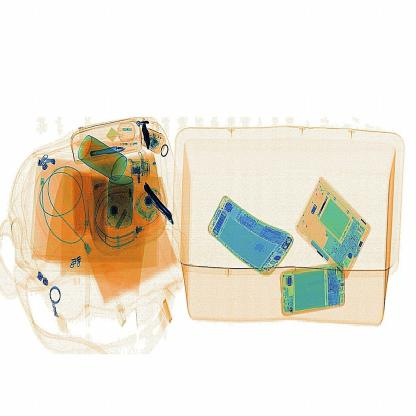knife: (142, 180, 180, 226)
